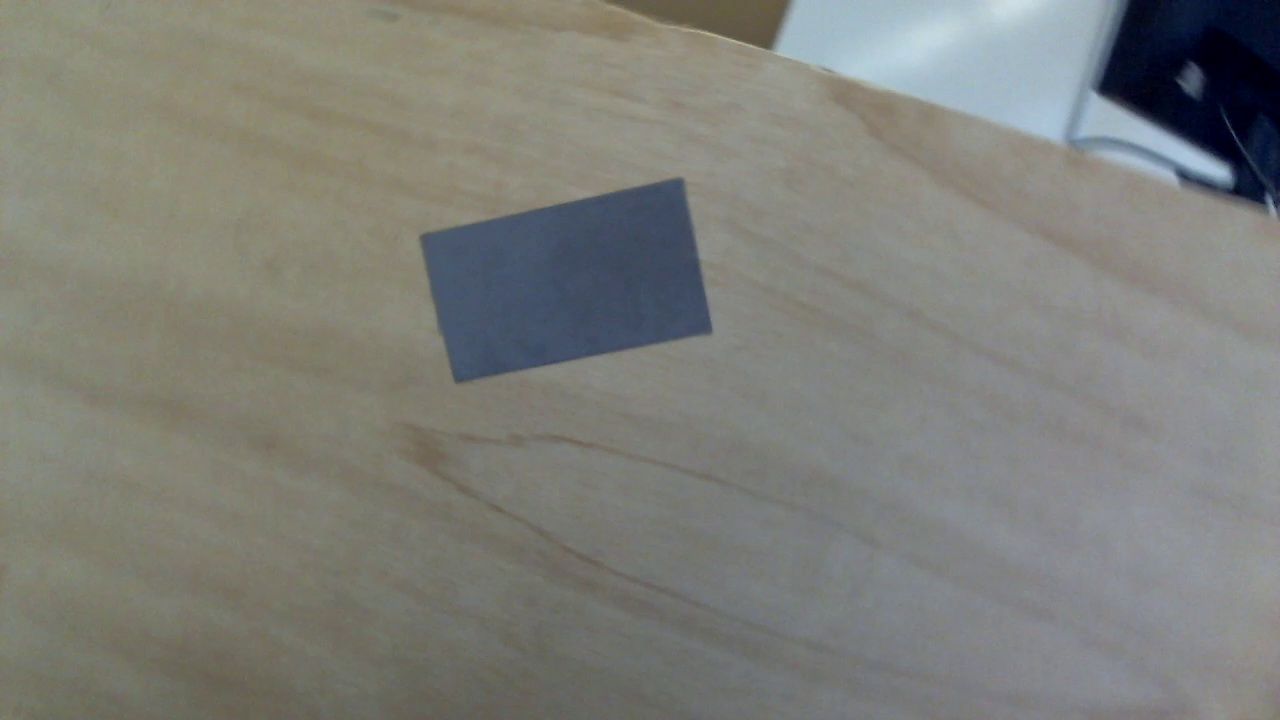Tape: (419, 177, 715, 389)
